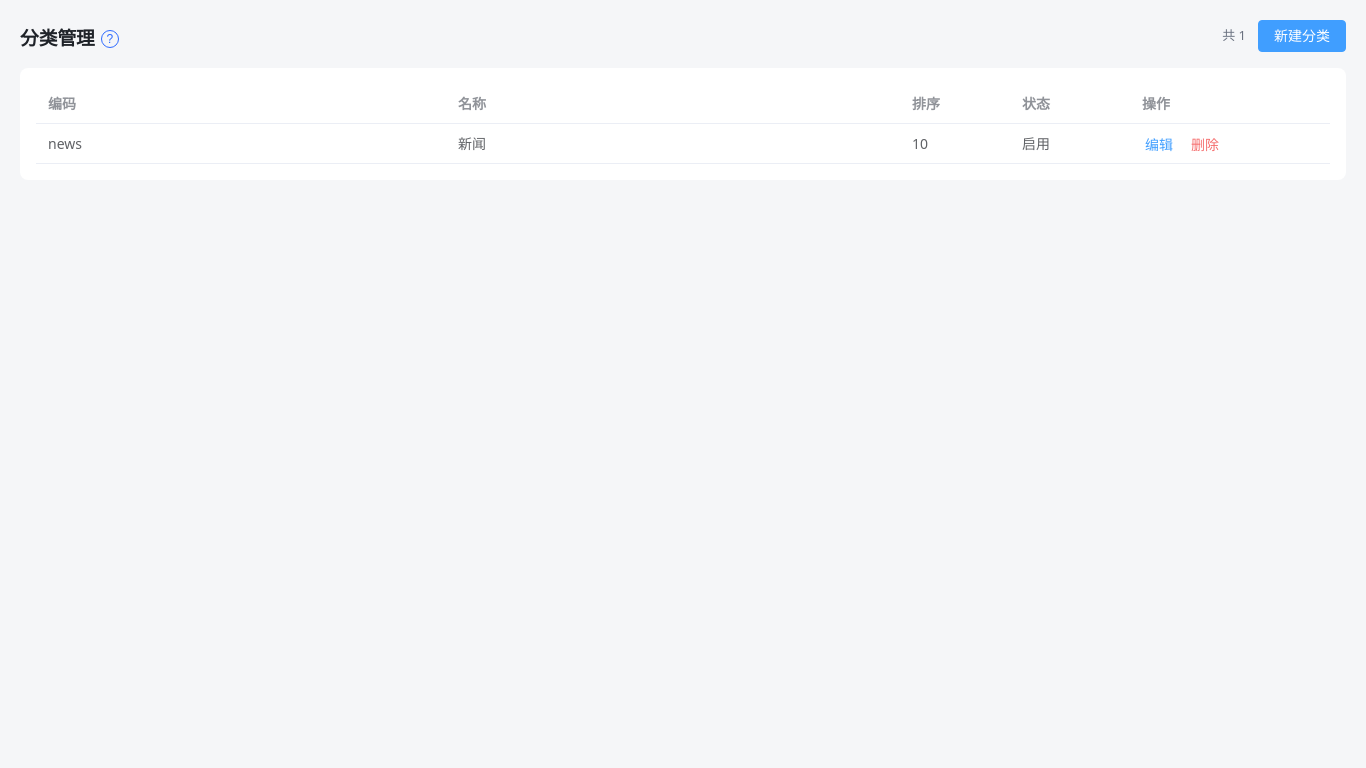
Test: CategoriesView › 删除被拒绝时展示后端 detail
Step 1. Click the button "删除" → [1205, 145], box [1188,135,1222,155]
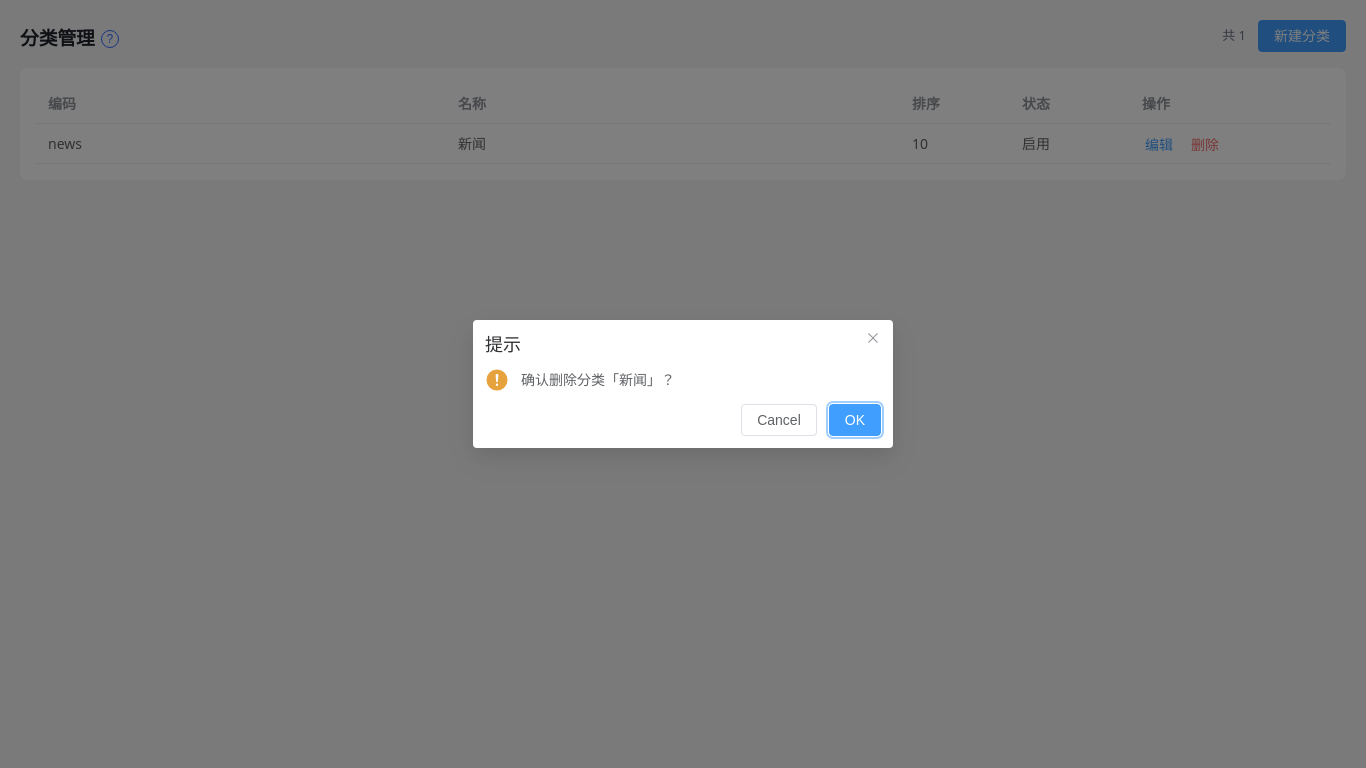
Step 2. Click the button "OK" → [855, 420], box [829,404,881,436]
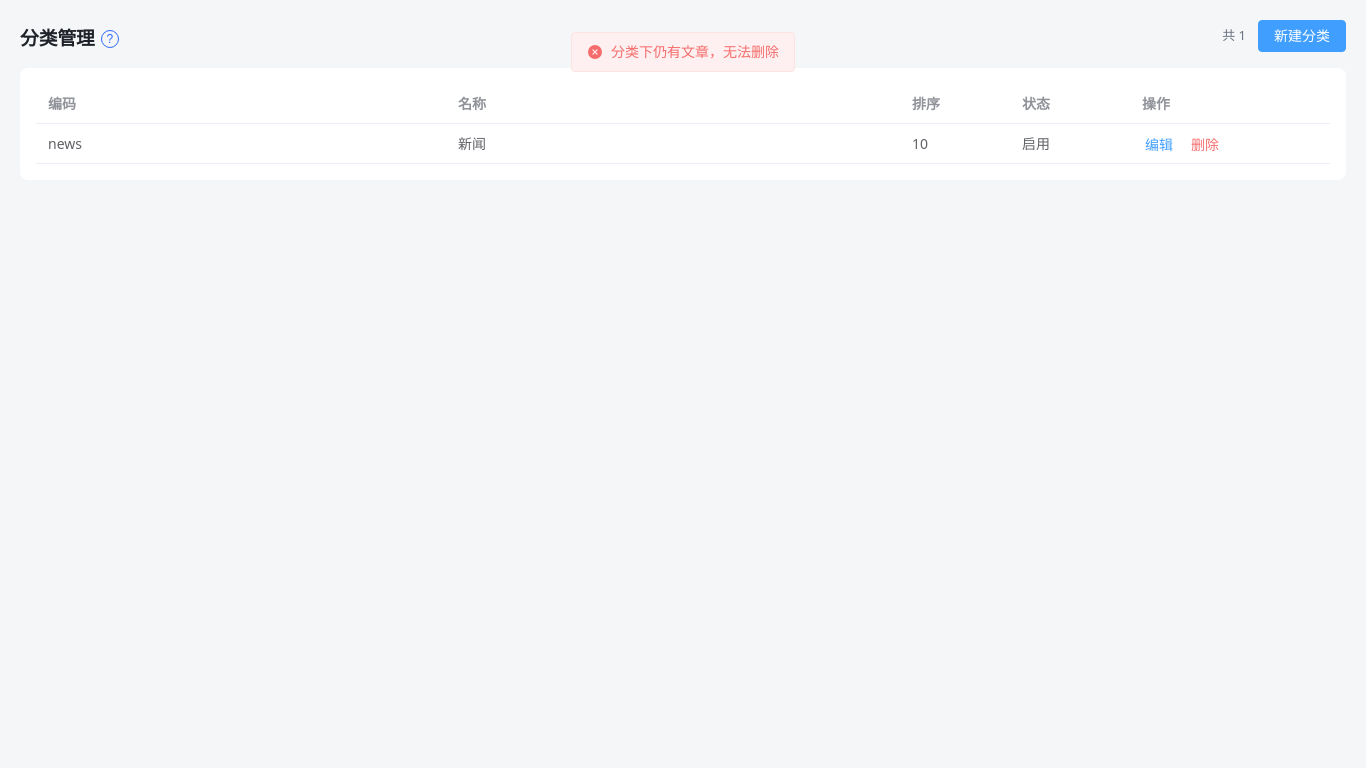
Expected: the text "分类下仍有文章，无法删除" is shown, [611,45,779,59]
